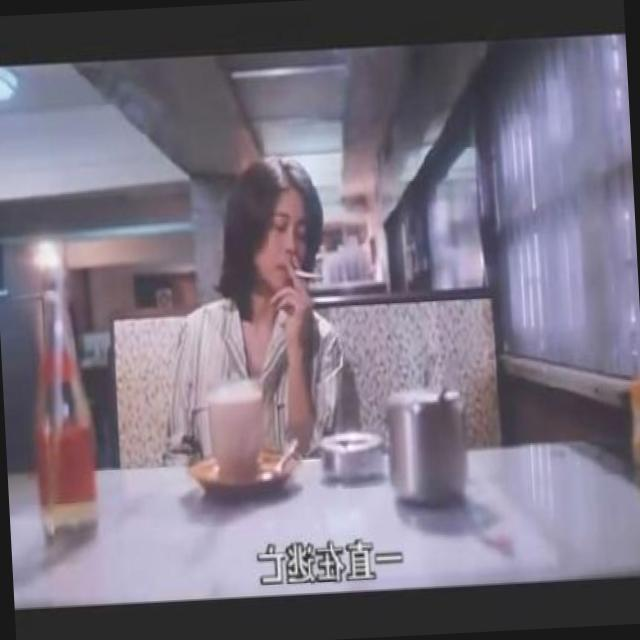smoke: (295, 259, 328, 290)
